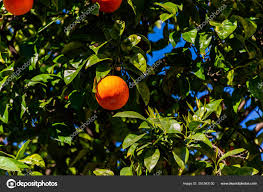orange: (91, 76, 129, 110)
